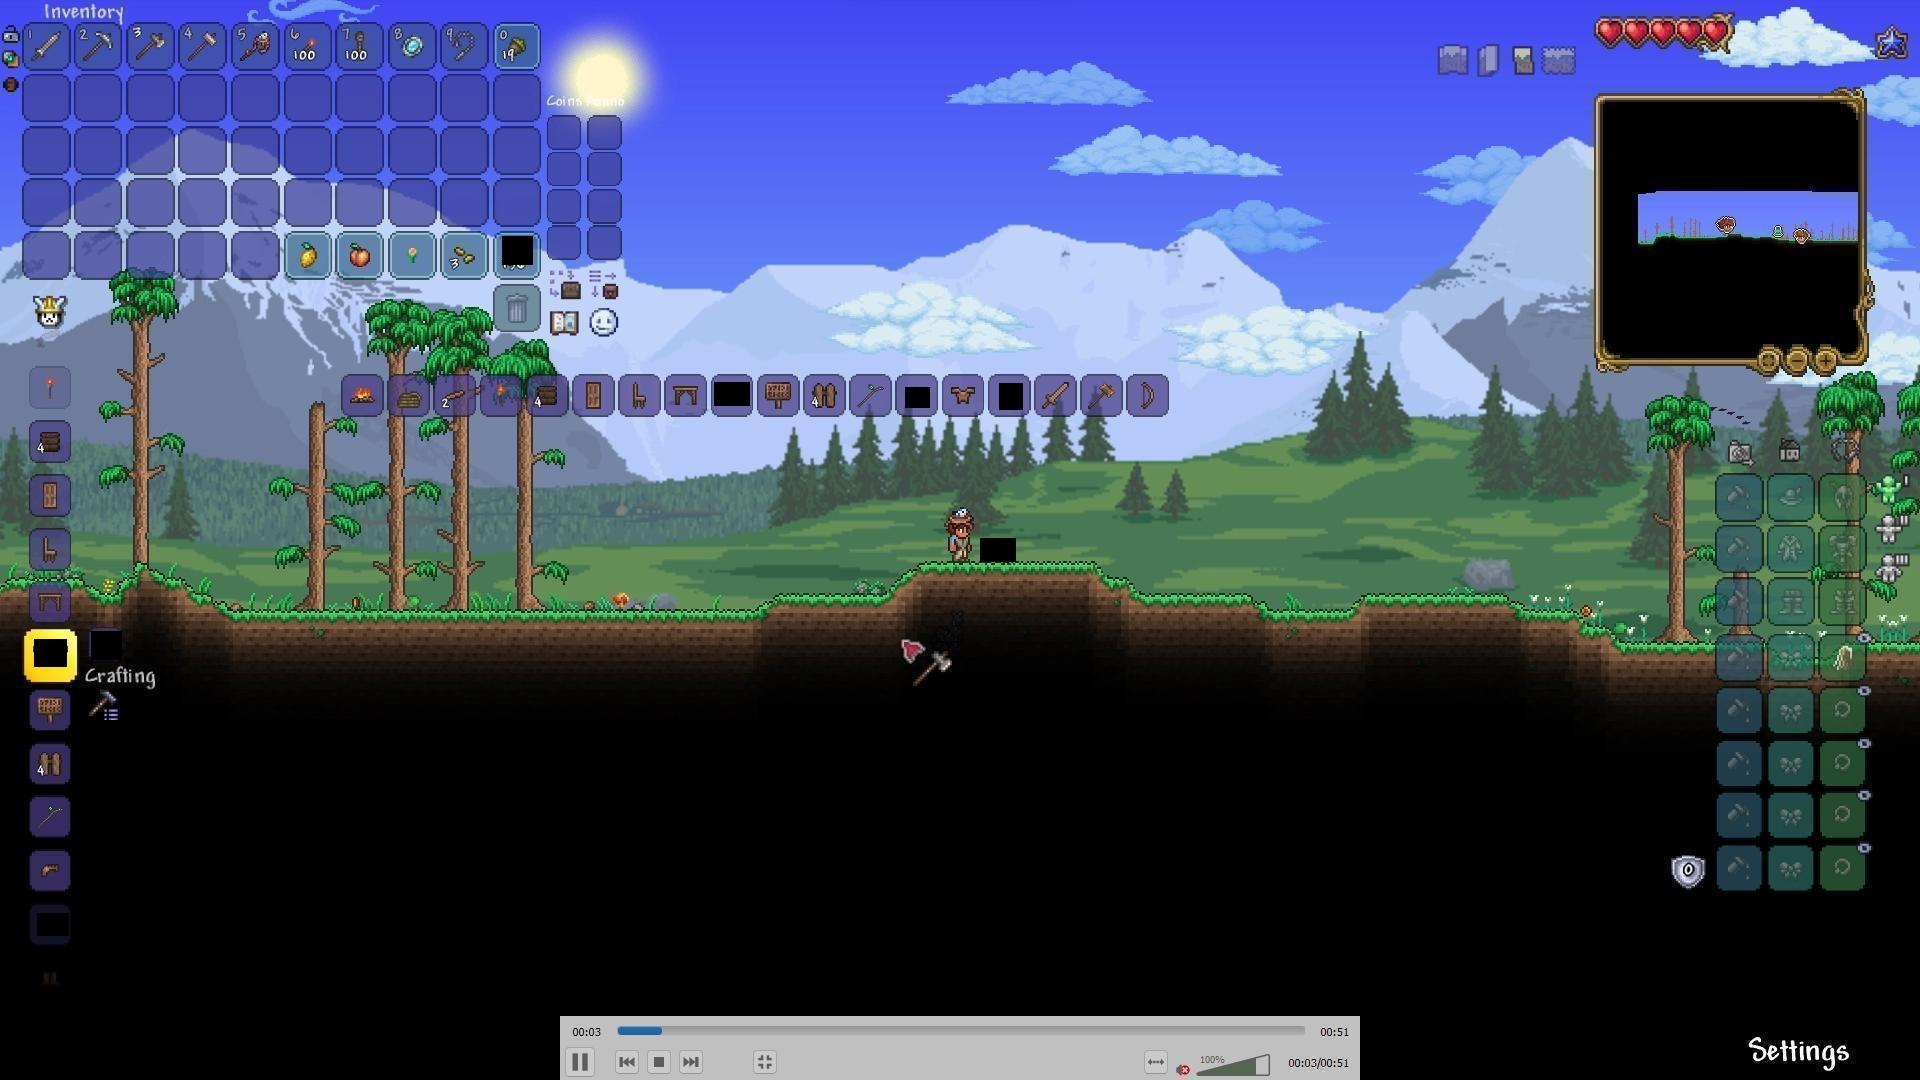breastplate: (948, 384, 982, 405)
helmet: (30, 855, 66, 886)
